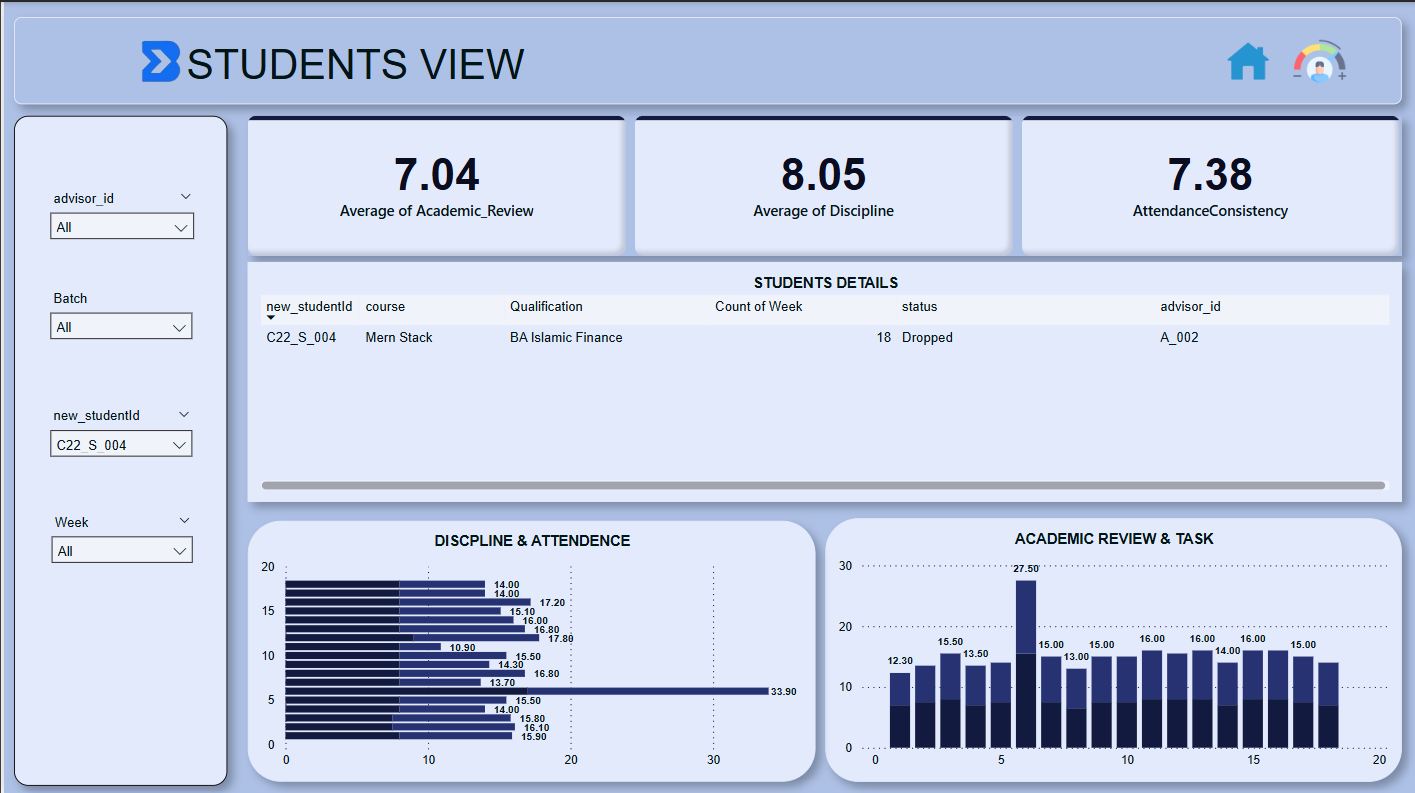

The page's visual inventory and layout, read from the dashboard file:
{"tool":"powerbi","page":{"name":"Students View","canvas":[1280,720],"ordinal":2},"visuals":[{"type":"shape","box":[9.6,102.9,193.5,607.9],"z":0},{"type":"slicer","fields":{"Values":["public advisor.advisor_id"]},"box":[26.1,159.9,162.2,76],"z":1000},{"type":"shape","box":[9.1,13.6,1259,79.4],"z":2000},{"type":"slicer","fields":{"Values":["public main_table.Batch"]},"box":[26.1,251.1,160.5,75.5],"z":3000},{"type":"slicer","fields":{"Values":["public main_table.new_studentId"]},"box":[26.1,356.8,160.5,75.5],"z":4000},{"type":"cardVisual","fields":{"Data":["Avg(public main_table.Academic_Review)","Avg(public main_table.Discipline)","public advisor.AttendanceConsistency"]},"box":[221.2,103.2,1046.9,127],"z":5000},{"type":"columnChart","title":"ACADEMIC REVIEW & TASK","fields":{"Category":["public main_table.Week"],"Y":["Sum(public main_table.Academic_Task)","Sum(public main_table.Academic_Review)"]},"box":[745.2,468.4,522.9,239.3],"z":6000},{"type":"textbox","box":[165.6,35.2,416.3,52.2],"z":7000},{"type":"tableEx","title":"STUDENTS DETAILS","fields":{"Values":["public main_table.new_studentId","public course_table.course","public main_table.Qualification","Count(public main_table.Week)","public main_table.status","public advisor.advisor_id"]},"box":[221.2,235.9,1046.9,217.8],"z":8000},{"type":"image","box":[1094.5,19.3,69.2,68.1],"z":9000},{"type":"barChart","title":"DISCPLINE & ATTENDENCE","fields":{"Category":["public main_table.Week"],"Y":["Sum(public main_table.Discipline)","Sum(public main_table.Attendance)"]},"box":[221.2,470.7,514.9,237.1],"z":10000},{"type":"image","box":[1119.5,19.3,148.6,68.1],"z":11000},{"type":"image","box":[107.2,19.8,68.7,73.4],"z":12000},{"type":"slicer","fields":{"Values":["public main_table.Week"]},"box":[27.2,453.7,159.9,76],"z":13000},{"type":"slicer","fields":{"Values":["public main_table.status"]},"box":[26.1,550.1,159.9,76],"z":14000}]}

Visuals, with their boxes in screenshot pixels (x1, y1, x2, y2), scaled from the page's 1280x720 canvas onto the 1415x793 screenshot:
shape: bbox(11, 113, 225, 783)
slicer - public advisor.advisor_id: bbox(29, 176, 208, 260)
shape: bbox(10, 15, 1402, 102)
slicer - public main_table.Batch: bbox(29, 277, 206, 360)
slicer - public main_table.new_studentId: bbox(29, 393, 206, 476)
cardVisual - Avg(public main_table.Academic_Review) x Avg(public main_table.Discipline): bbox(245, 114, 1402, 254)
"ACADEMIC REVIEW & TASK" columnChart: bbox(824, 516, 1402, 779)
textbox: bbox(183, 39, 643, 96)
"STUDENTS DETAILS" tableEx: bbox(245, 260, 1402, 500)
image: bbox(1210, 21, 1286, 96)
"DISCPLINE & ATTENDENCE" barChart: bbox(245, 518, 814, 780)
image: bbox(1238, 21, 1402, 96)
image: bbox(119, 22, 194, 103)
slicer - public main_table.Week: bbox(30, 500, 207, 583)
slicer - public main_table.status: bbox(29, 606, 206, 690)
